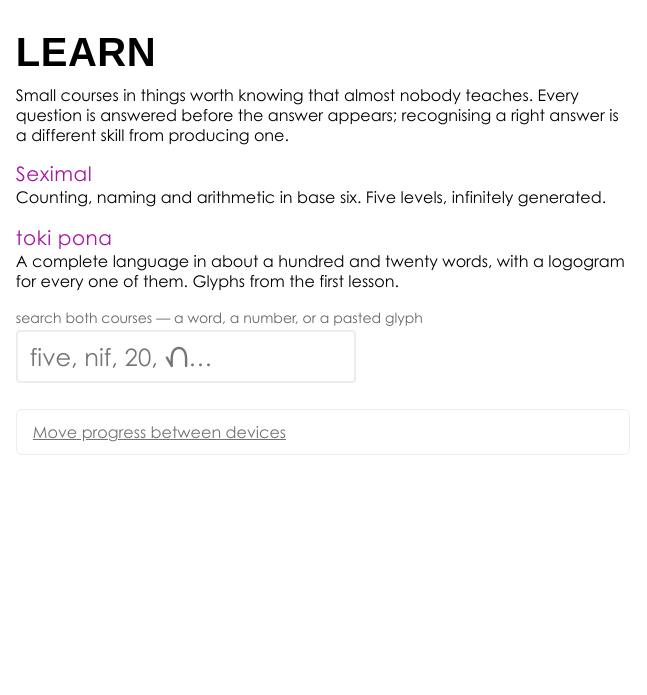
Test: the panel says out loud that it is temporary
The width and height of the screenshot is (647, 695).
What coordinates should you click on to do the following:
click the button "Move progress between devices"
I would click on:
 (159, 432)
Its box is [33, 422, 286, 442].
(page scrolled)
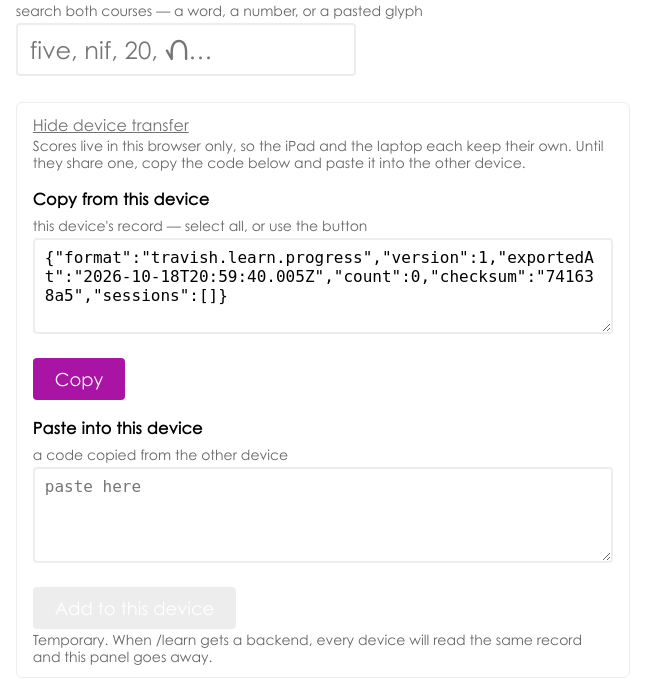
expect the text "When /learn gets a backend" is shown: met, box [33, 631, 582, 665]
